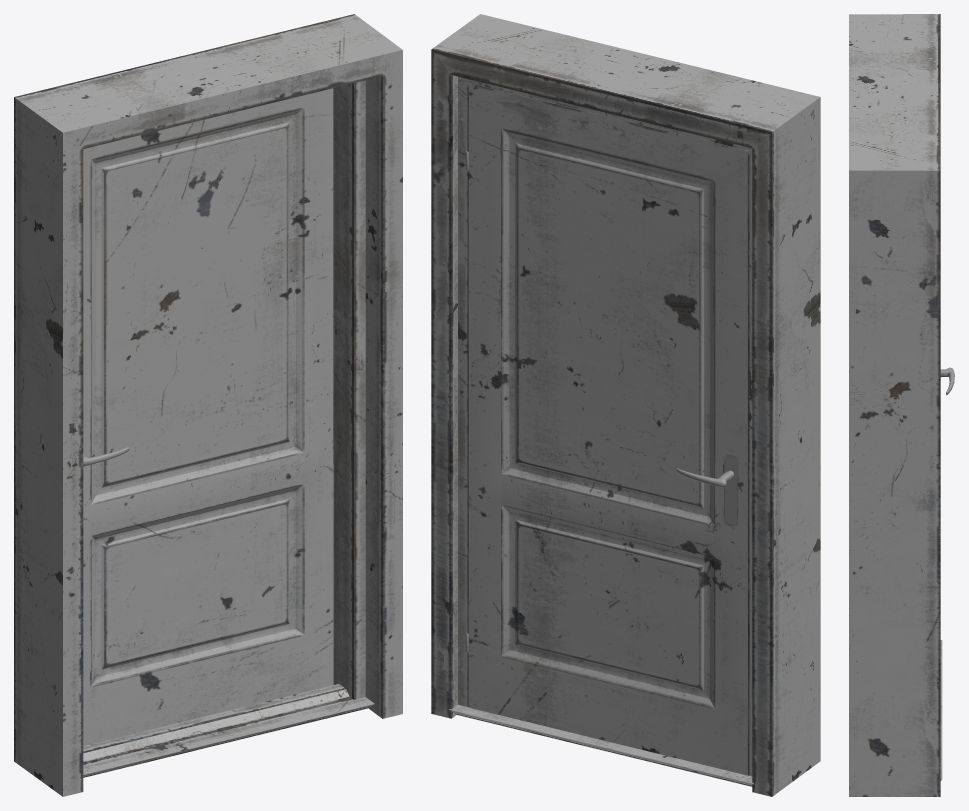
Rendered from Prop_WoodenDoor.fbx.
3 views of the same model, side by side, from view 1: azimuth 30°, elevation 25°; view 2: azimuth 150°, elevation 25°; view 3: azimuth 270°, elevation 25° (orthographic). The views are drawn at different scales.
Visible parts, largest first — view 1: Door, Border; view 2: Door, Border; view 3: Border.
Boxes of the visible parts, x1,y1,x2,y2 form: Door: [83, 88, 333, 745]; Border: [14, 14, 402, 796]; Door: [465, 82, 747, 775]; Border: [431, 14, 820, 796]; Border: [849, 14, 942, 796].
Size of the model in its own units: 50.99 by 95.07 by 14.57.
